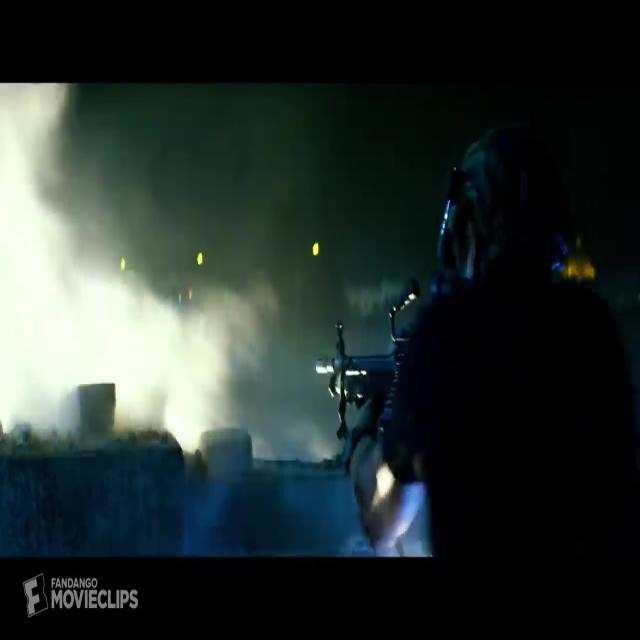Weapon: (290, 280, 430, 480)
